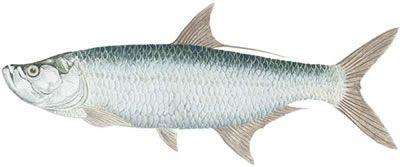Indo-Pacific Tarpon: (3, 2, 399, 167)
